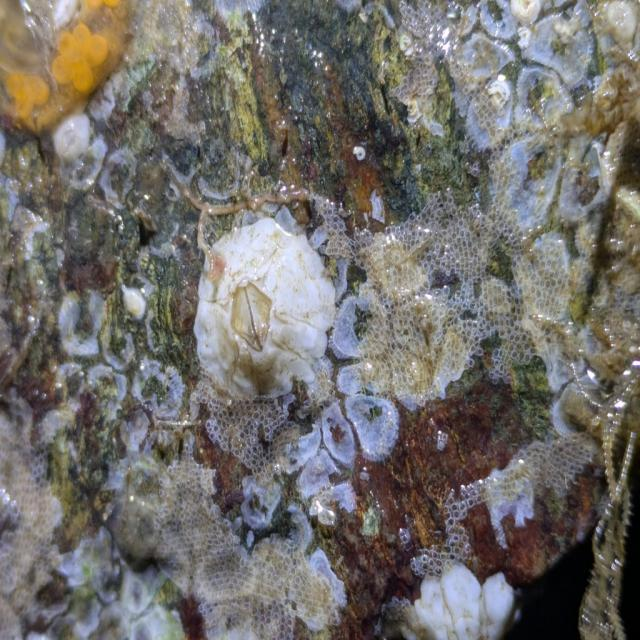barnacles: (192, 203, 336, 404)
